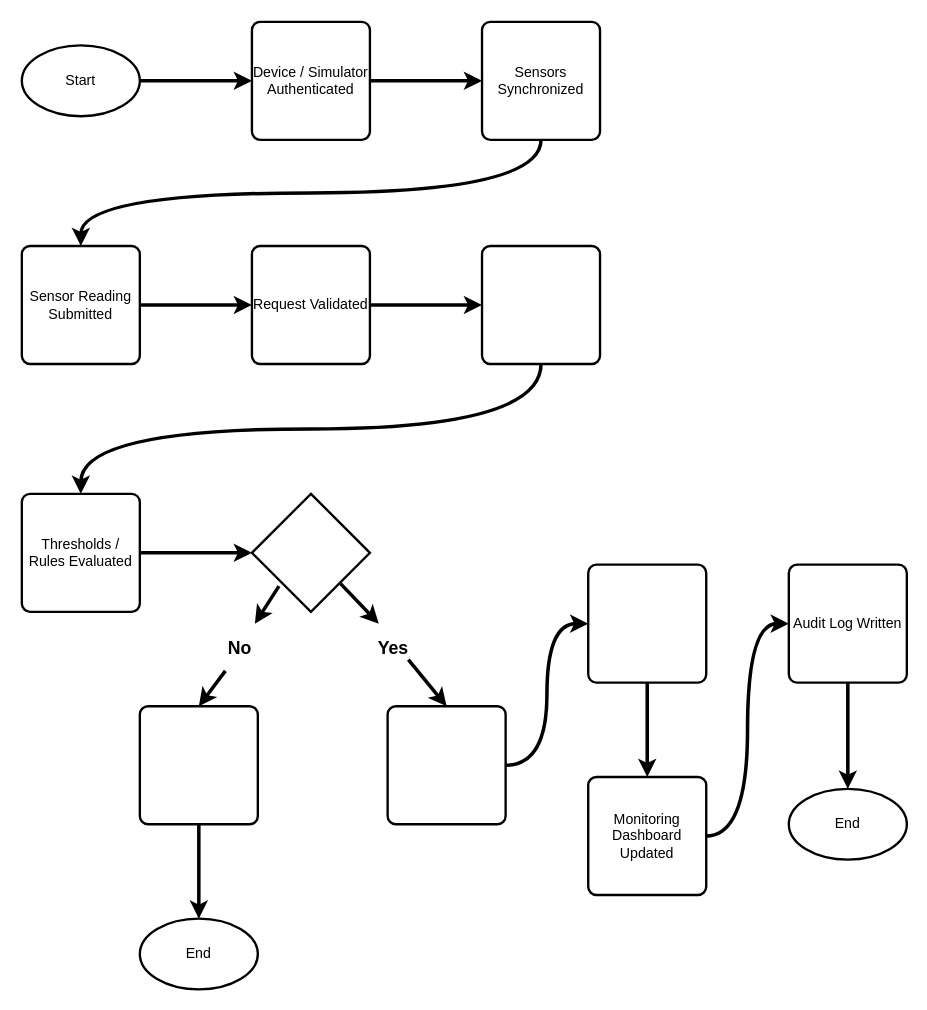
Some shapes in this 927 by 1010 pixel diagram are drawn without their labels. Here are the shapes that lost their labels. From the top down, the box of each, then its label:
(480, 244, 601, 365): Sensor Reading Stored
(250, 492, 371, 612): Abnormal Condition?
(586, 563, 707, 683): Alert Notification Created
(138, 704, 258, 825): Normal Reading Recorded
(386, 704, 506, 825): Emergency Event Created
